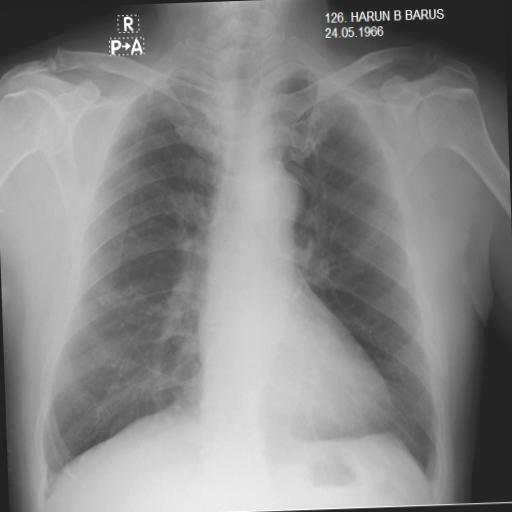kardiomegali: (22, 18, 448, 510)
